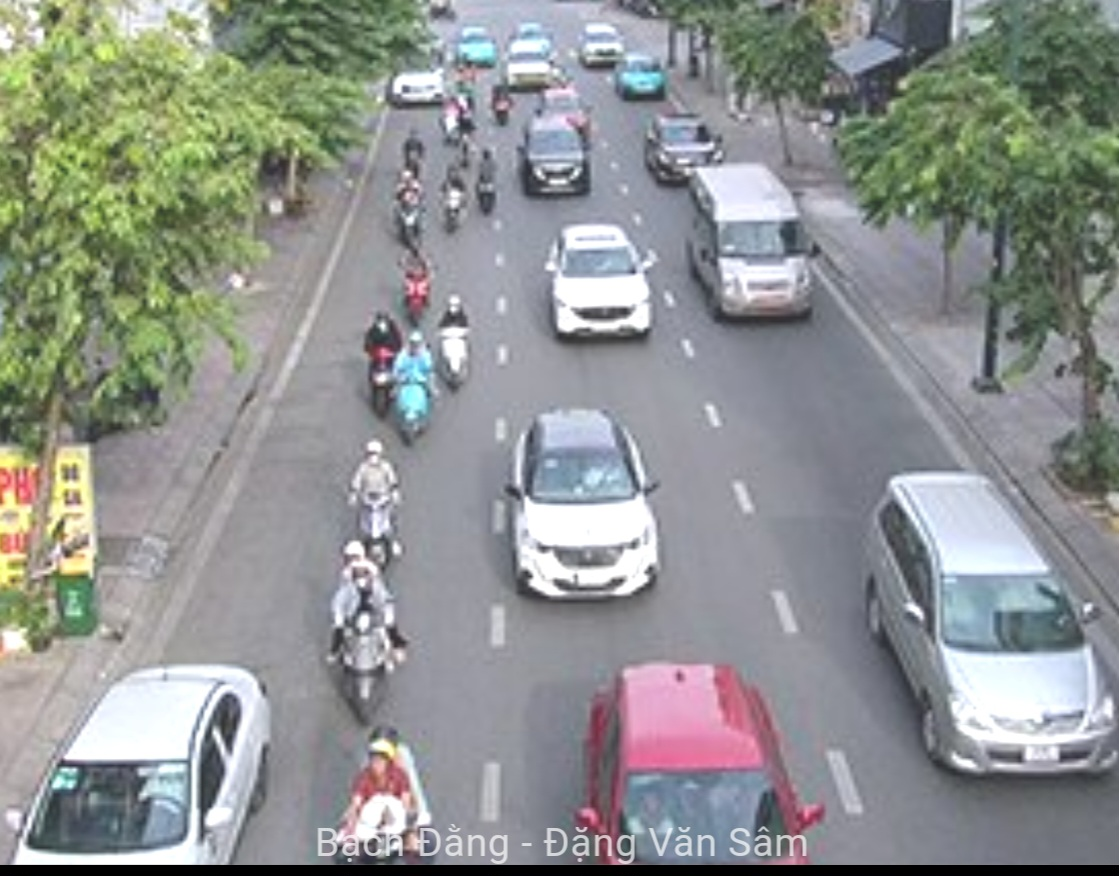car: (861, 470, 1118, 775), (11, 660, 273, 876), (584, 660, 814, 867), (503, 406, 662, 602), (686, 167, 813, 320), (543, 226, 656, 343), (643, 111, 726, 186), (525, 118, 591, 197), (615, 53, 665, 102), (506, 41, 552, 90), (577, 22, 624, 67)
